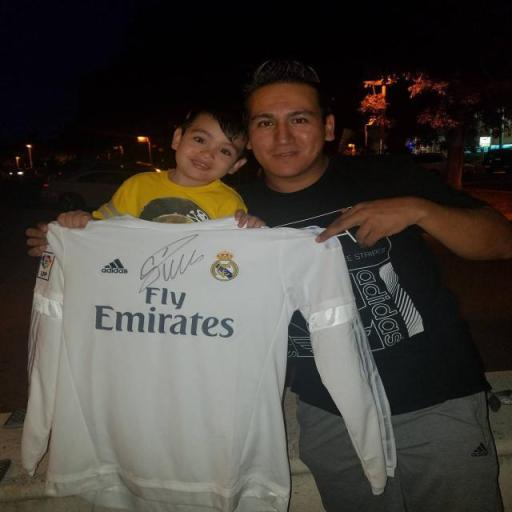Adidas: (98, 256, 129, 278)
Emirates: (94, 284, 232, 340)
